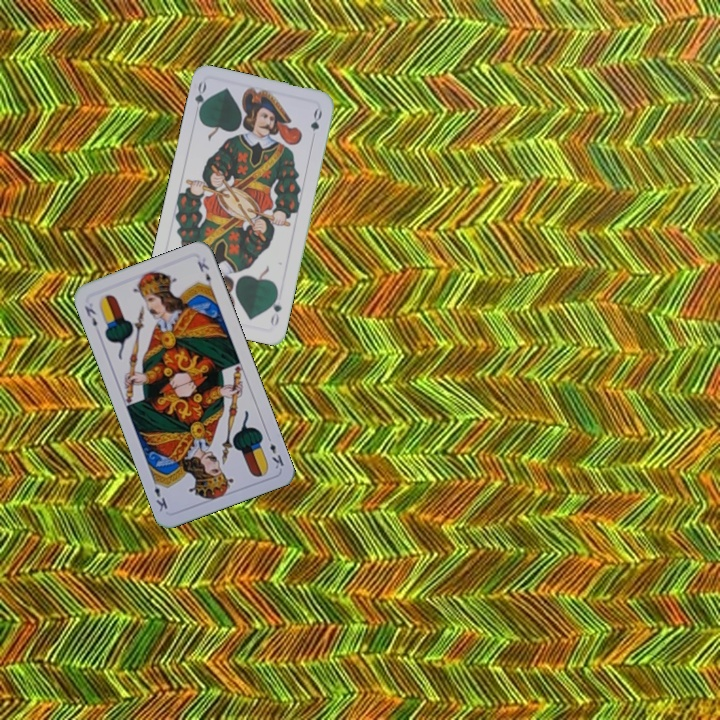EK: (263, 431, 286, 471), (80, 302, 100, 329)
GO: (191, 78, 210, 119), (266, 288, 284, 328)
